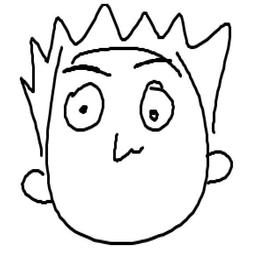ear: (18, 164, 64, 209), (200, 142, 241, 187)
eye: (60, 80, 107, 140), (135, 77, 177, 134)
eyebrow: (57, 62, 115, 79)
frowning_eyebrow: (131, 54, 165, 71)
nose: (106, 131, 149, 168)
